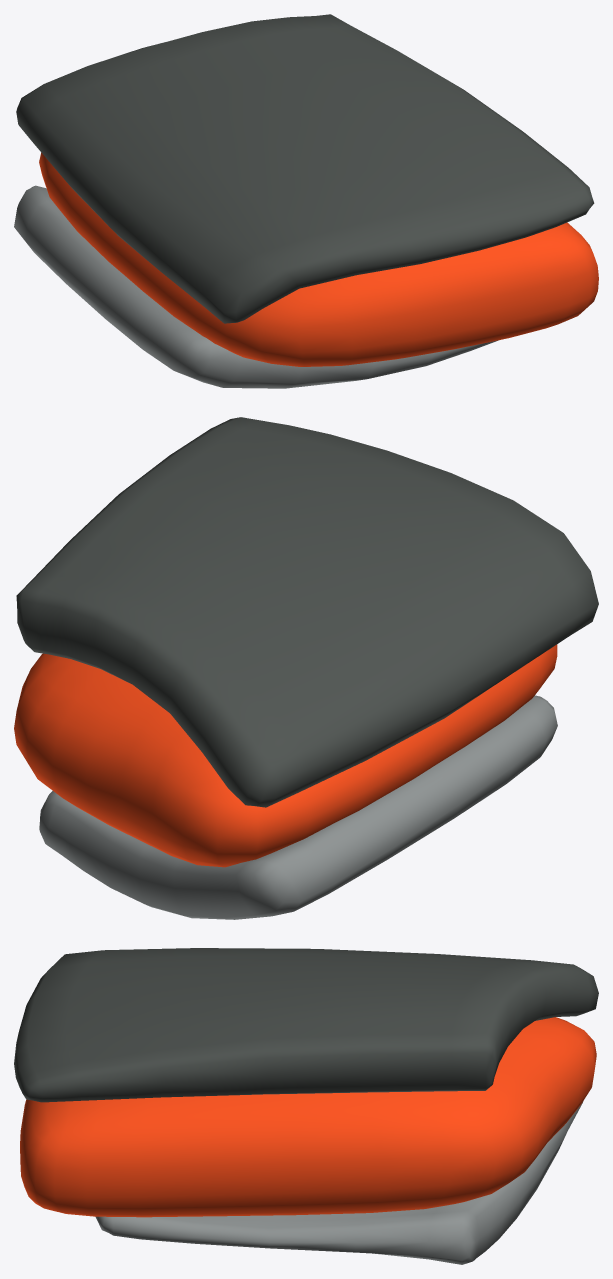
File: xsens_RightFourthMC.dae
The picture shows the model from 3 angles, top to bottom: view 1: azimuth 30°, elevation 25°; view 2: azimuth 150°, elevation 25°; view 3: azimuth 270°, elevation 25°; orthographic projection. The views are drawn at different scales.
Visible parts, largest first — view 1: RightFourthMC; view 2: RightFourthMC; view 3: RightFourthMC.
Boxes of the visible parts, left/top/right/bottom form: RightFourthMC: left=14, top=14, right=598, bottom=388; RightFourthMC: left=14, top=417, right=598, bottom=919; RightFourthMC: left=14, top=948, right=598, bottom=1264.
Size of the model in its own units: 0.0502 by 0.069 by 0.0326.
